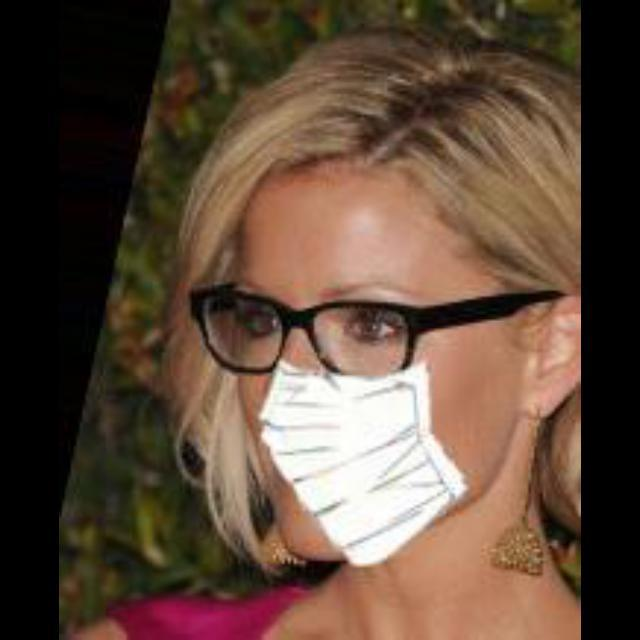suspicion: (196, 141, 562, 575)
